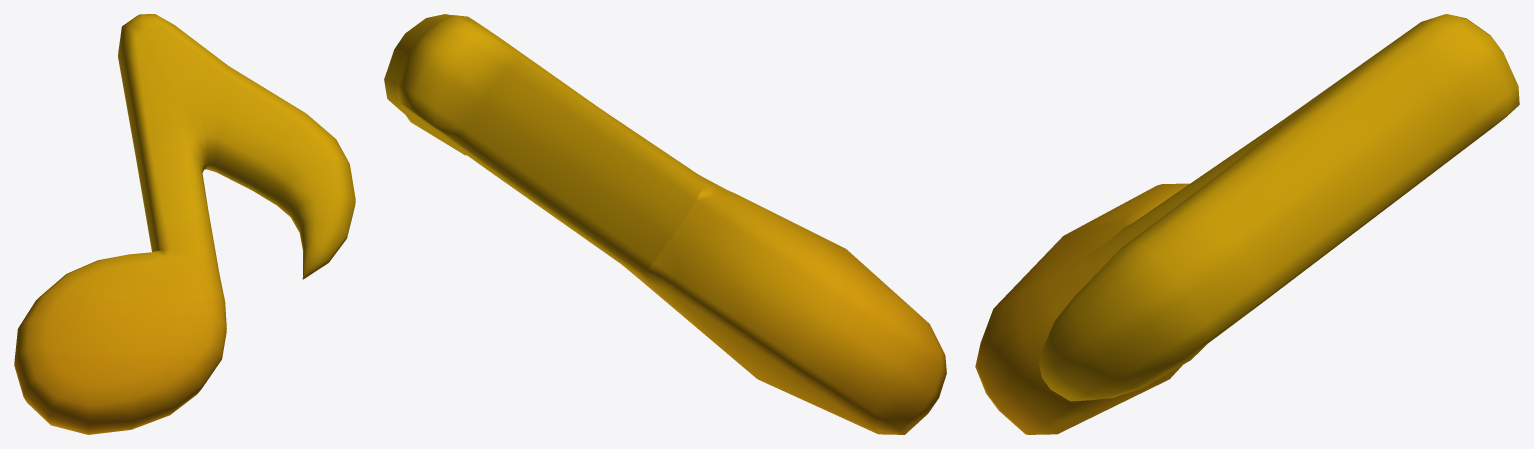
The model's file is UnitIconMusic.glb.
3 views of the same model, side by side, from view 1: azimuth 30°, elevation 25°; view 2: azimuth 150°, elevation 25°; view 3: azimuth 270°, elevation 25° (orthographic). The views are drawn at different scales.
Parts seen in each view (by area): view 1: Body__mBody; view 2: Body__mBody; view 3: Body__mBody.
Boxes of the visible parts, box(x1,y1,x2,y2) form: Body__mBody: box(14, 14, 355, 434); Body__mBody: box(384, 14, 946, 434); Body__mBody: box(975, 14, 1519, 434).
Bounding box in the file's own units: 3.41 × 2.92 × 2.77.
1 material, 1 textured.
